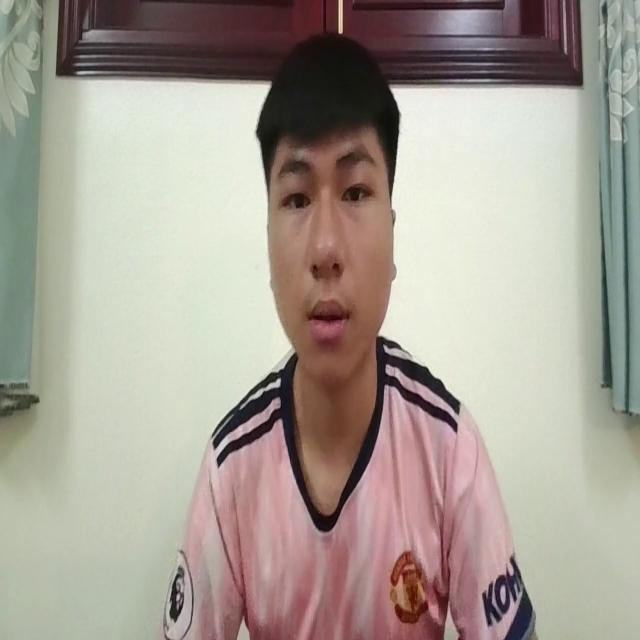student: (154, 31, 536, 640)
